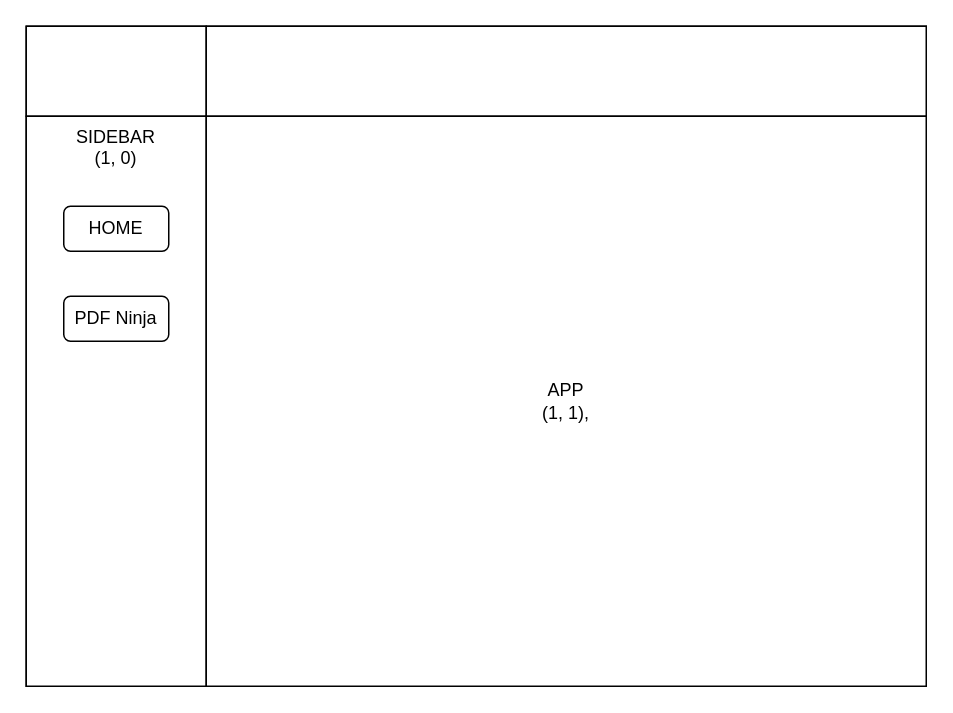
The diagram is 953 pixels wide and 713 high, and some of its shapes have lost their labels. Each missing label, with the centre of its shape:
BRANDING (0, 0): the point at 115,70
STATUS | INFO | USER-INPUT (0, 1): the point at 565,70
